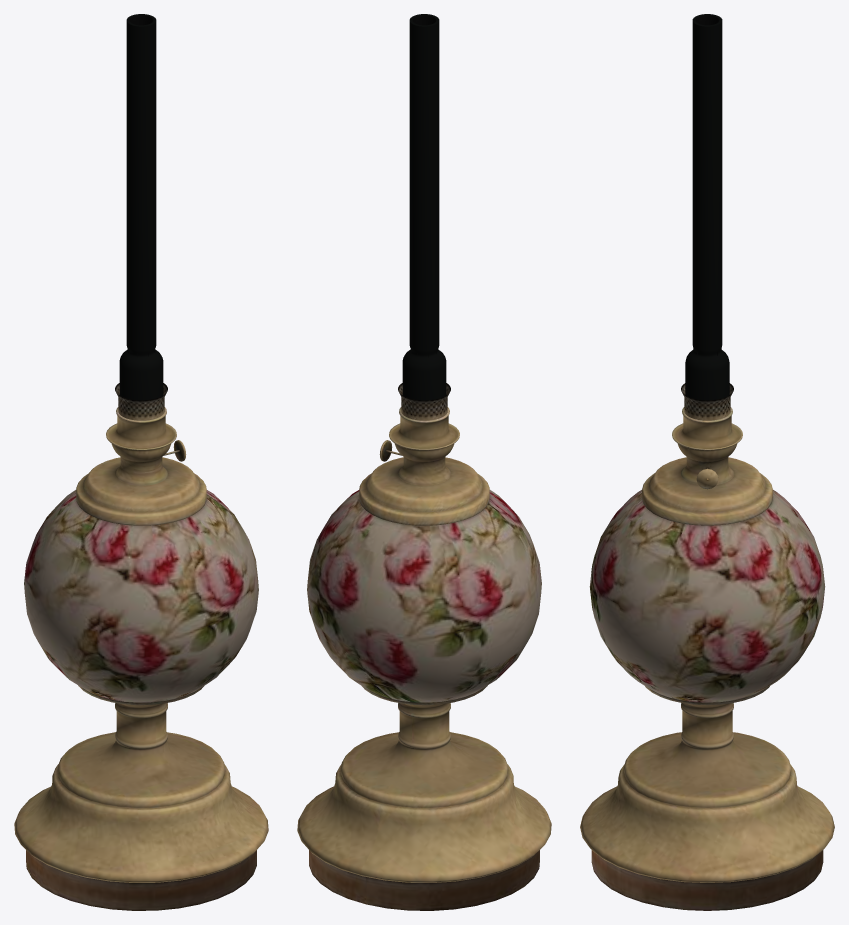
The picture shows the model from 3 angles, left to right: view 1: azimuth 30°, elevation 25°; view 2: azimuth 150°, elevation 25°; view 3: azimuth 270°, elevation 25°; orthographic projection.
Visible parts, largest first — view 1: vintage_oil_lamp, vintage_oil_lamp_glass; view 2: vintage_oil_lamp, vintage_oil_lamp_glass; view 3: vintage_oil_lamp, vintage_oil_lamp_glass.
Part boxes in pixels (left/top/right/bottom): vintage_oil_lamp: left=14, top=407, right=268, bottom=910; vintage_oil_lamp_glass: left=115, top=14, right=167, bottom=420; vintage_oil_lamp: left=297, top=407, right=551, bottom=910; vintage_oil_lamp_glass: left=398, top=14, right=450, bottom=420; vintage_oil_lamp: left=580, top=407, right=834, bottom=910; vintage_oil_lamp_glass: left=681, top=14, right=733, bottom=420.
Size of the model in its own units: 0.22 by 0.8016 by 0.22.
3 materials, 3 textured.
